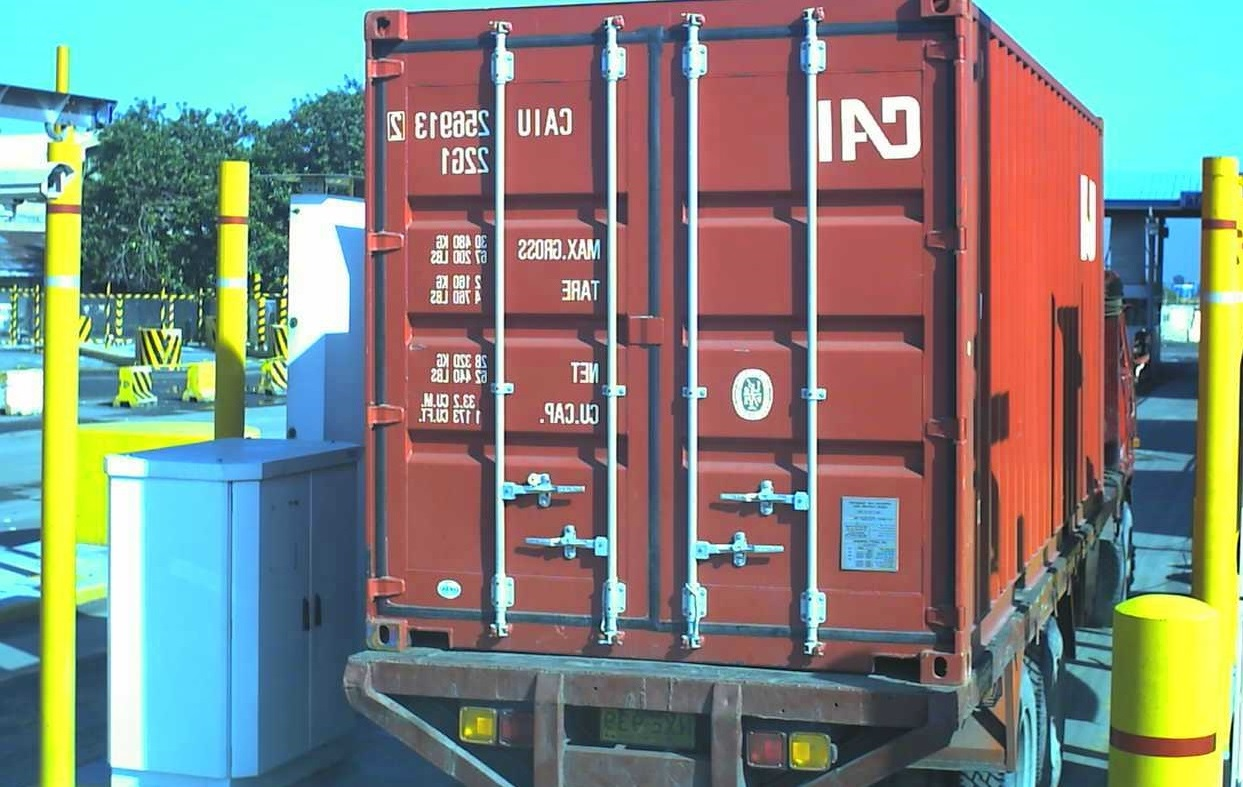container_door: (360, 9, 973, 691)
